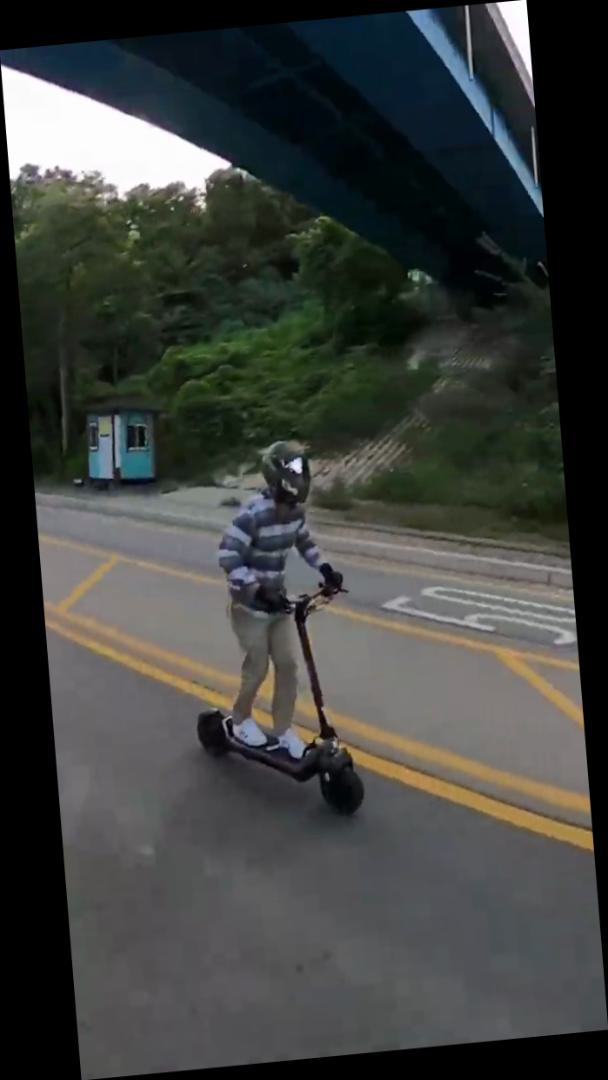helmet: (171, 433, 370, 833)
